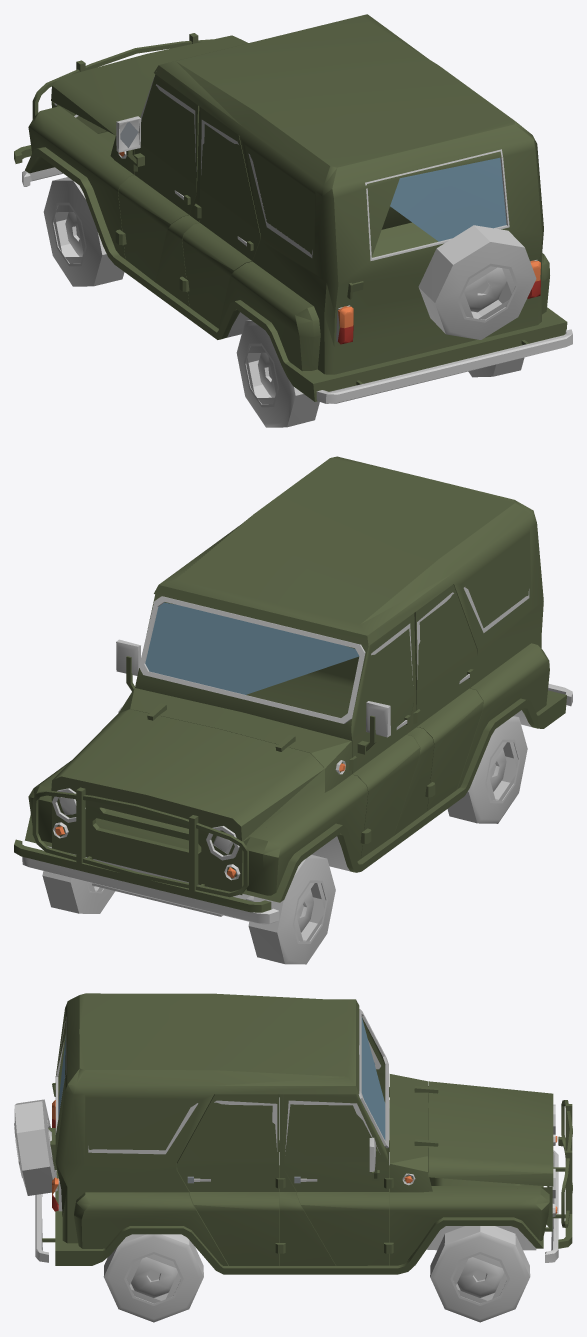
The model's file is wolf_110.obj.
The picture shows the model from 3 angles, top to bottom: view 1: azimuth 30°, elevation 25°; view 2: azimuth 150°, elevation 25°; view 3: azimuth 270°, elevation 25°; orthographic projection. The views are drawn at different scales.
Parts seen in each view (by area): view 1: model; view 2: model; view 3: model.
Part boxes in pixels (<box>): model: <box>14,14,572,427</box>; model: <box>14,456,572,964</box>; model: <box>14,993,572,1322</box>.
Size of the model in its own units: 2 by 2.01 by 4.2.
